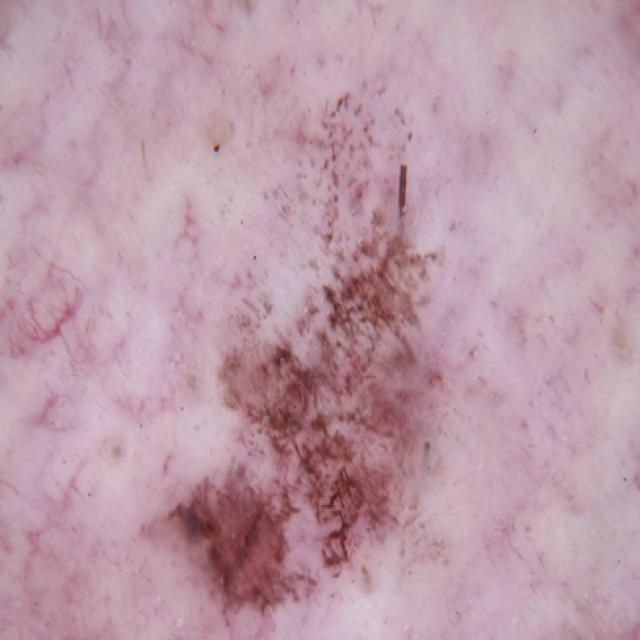Keratosis: (122, 123, 518, 640)
